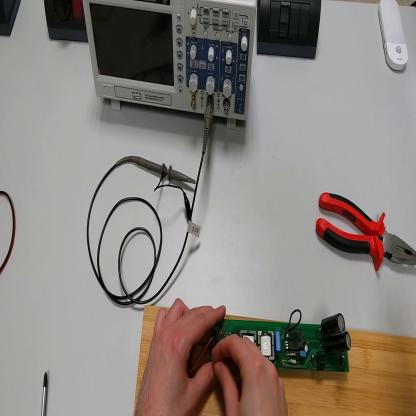hand: (137, 298, 226, 413), (214, 337, 289, 414)
high voltage board: (189, 310, 352, 374)
oscilloscope: (83, 1, 257, 134)
oscilloscope probe tip: (132, 154, 196, 184)
pliers: (315, 188, 416, 271)
screwdriver-: (40, 371, 51, 415)
socket: (45, 2, 90, 45), (2, 2, 21, 37)
working area: (135, 306, 416, 416)
